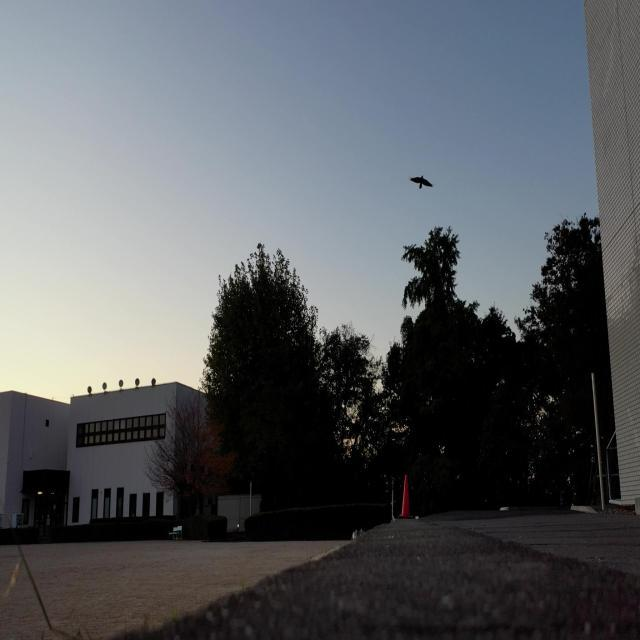Birds: (409, 170, 435, 192)
